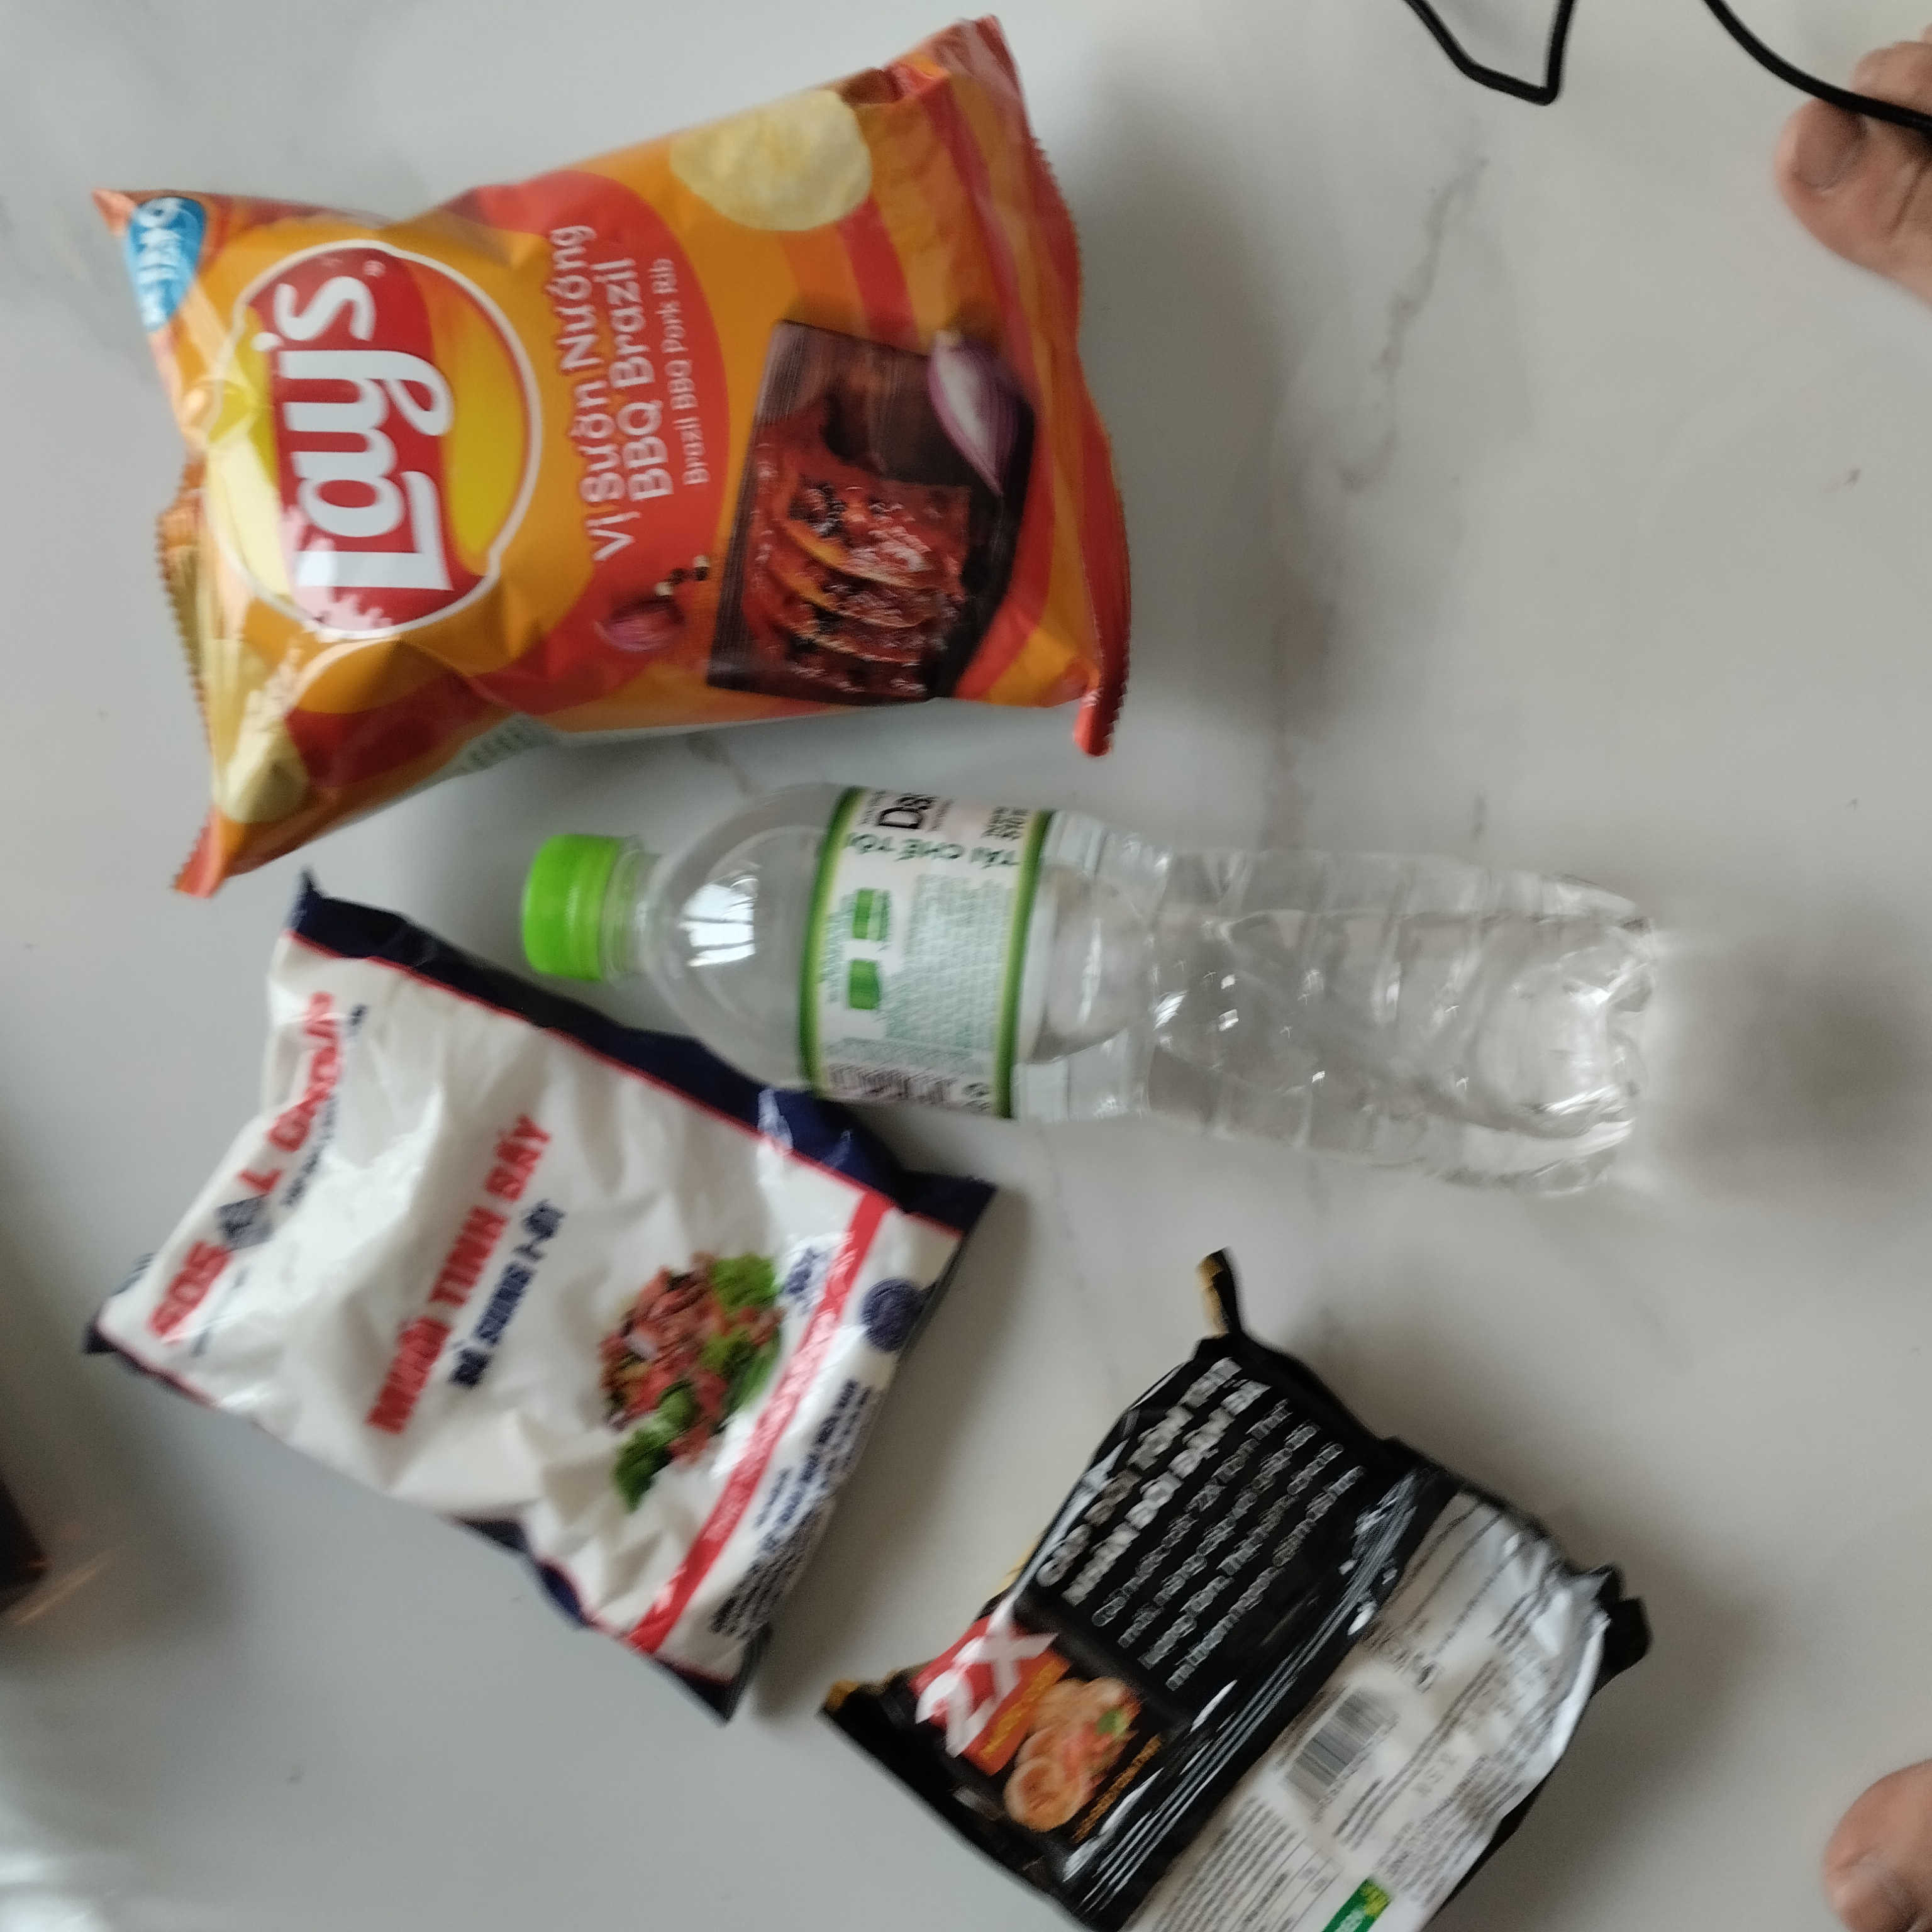3mien: (828, 1242, 1651, 1932)
Dasani: (504, 784, 1670, 1200)
Lays: (83, 11, 1173, 893)
Salt: (80, 870, 1001, 1721)
